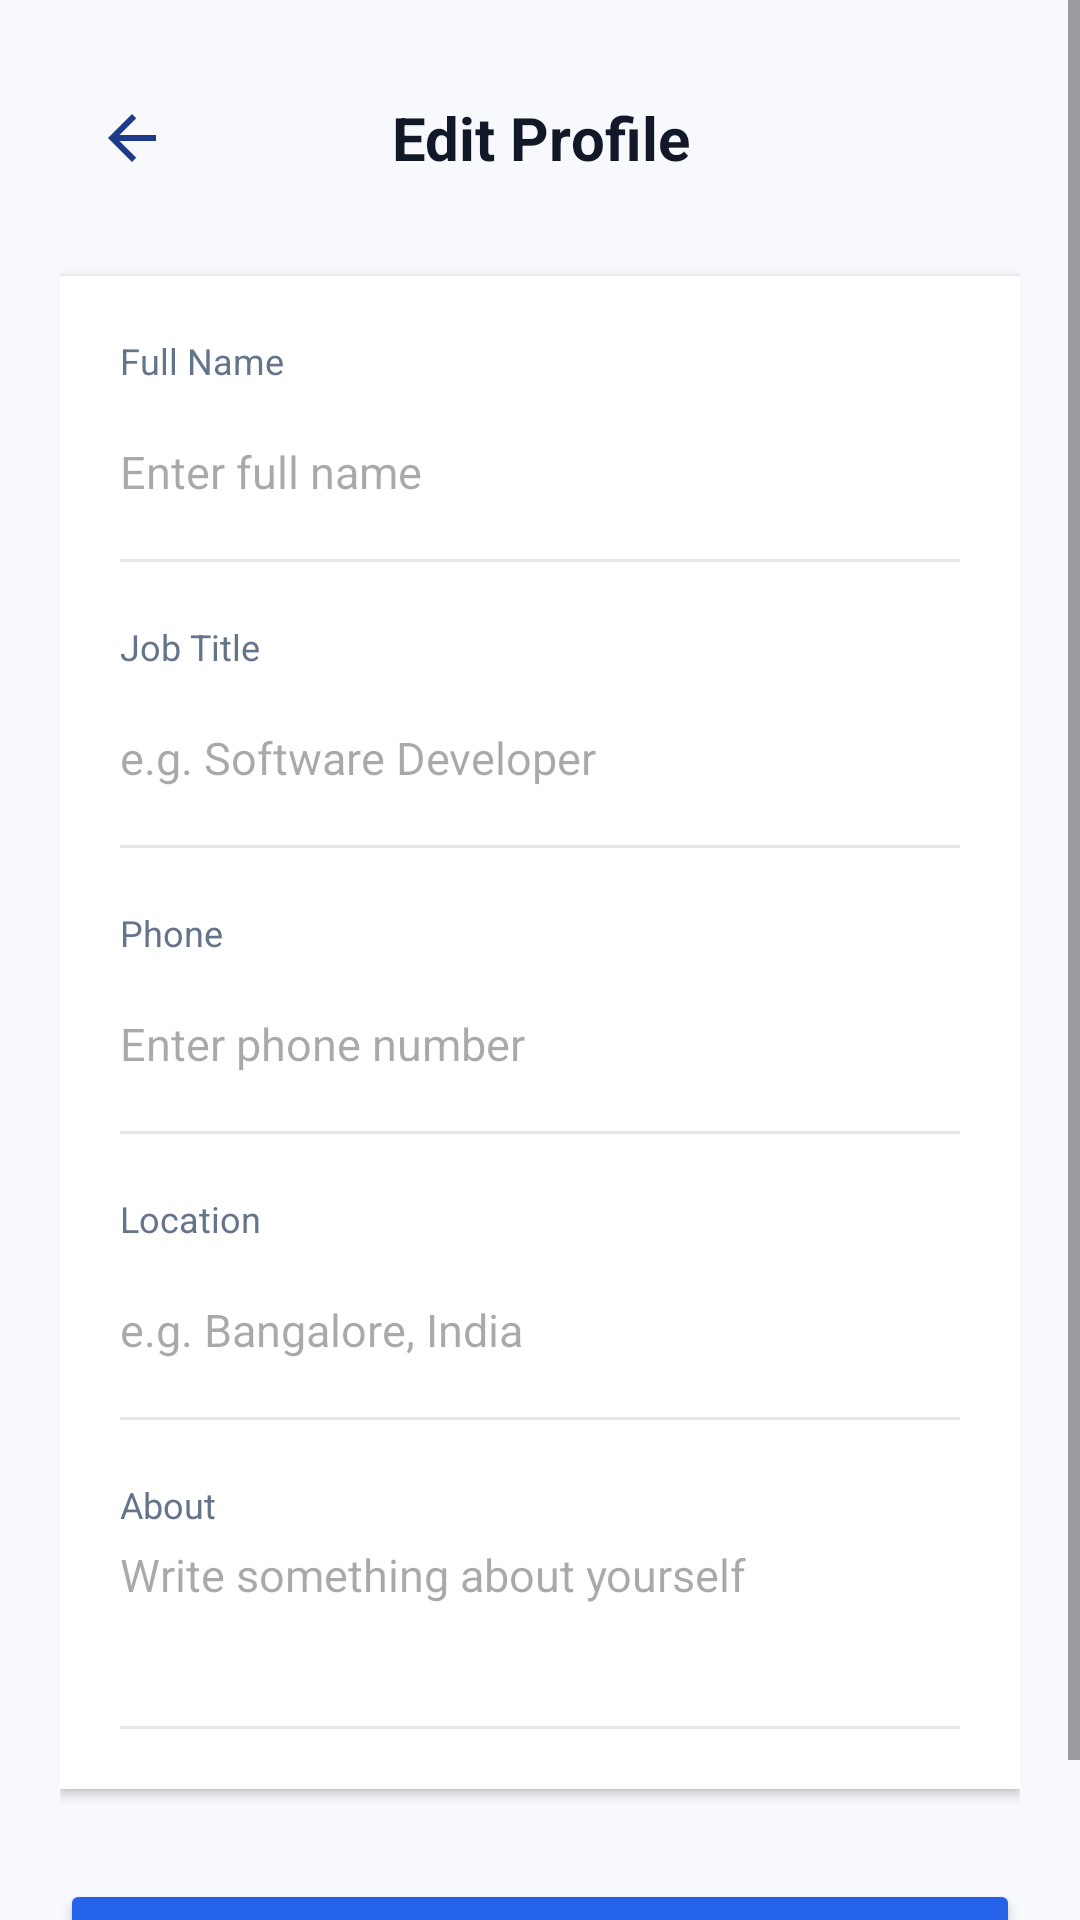

Named icons in this screenshot (1080x1920) and their bounding boxes, (x1, y1, x2, y2):
arrow back: (108, 114, 156, 162)
